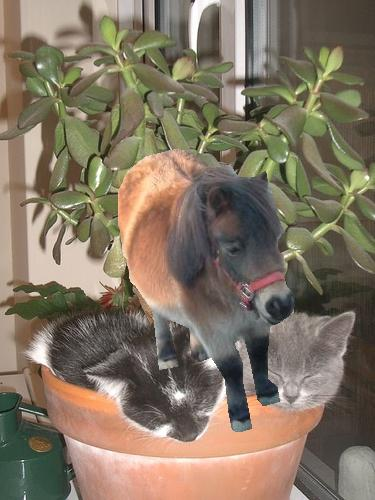tampered: (119, 149, 295, 432)
